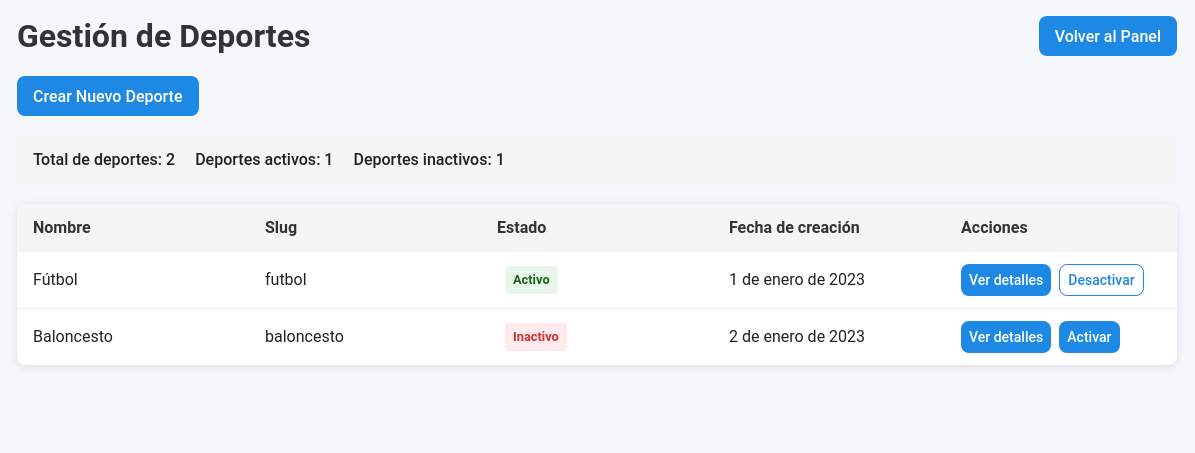
Test: SportsList Component › activates a sport when clicking on Activar
Hacer clic en el botón de activar del segundo deporte (que está inactivo)
What coordinates should you click on to do the following:
click the button "Activar"
I would click on:
 (1089, 337)
Its box is [1059,321,1120,353].
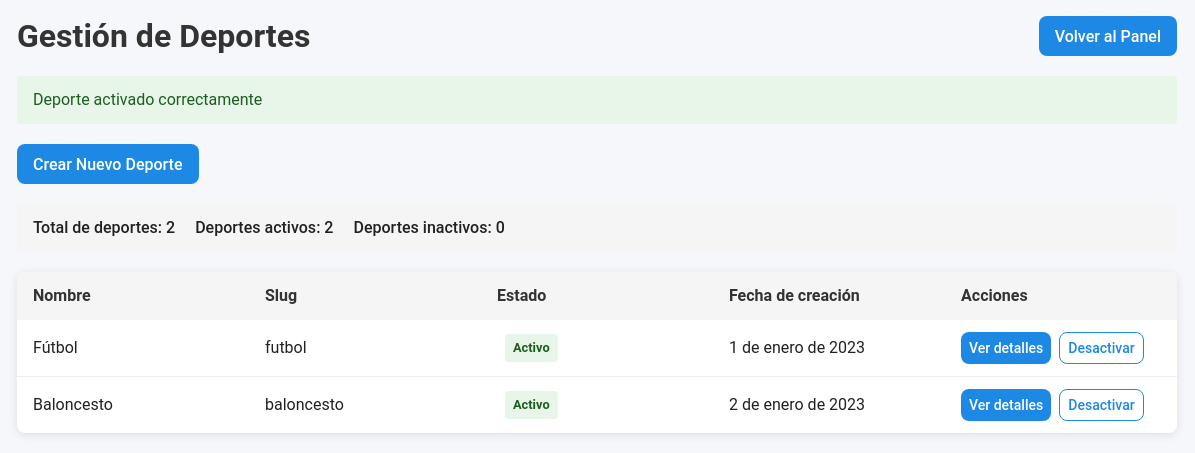
Check: the text "Deporte activado correctamente" is shown, box [33,90,262,109]
